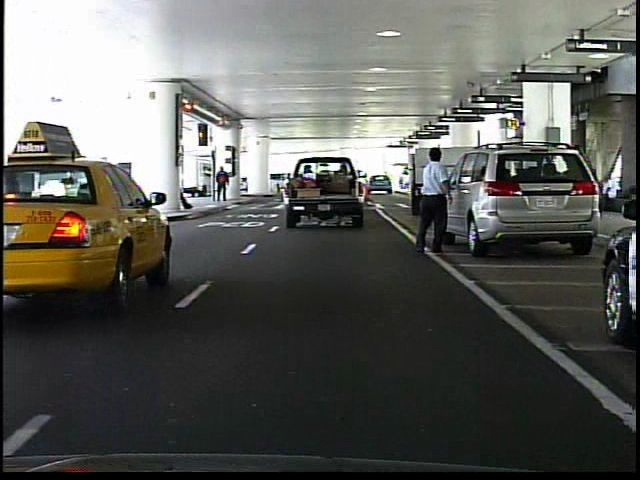person: (407, 144, 458, 260), (213, 163, 233, 205)
